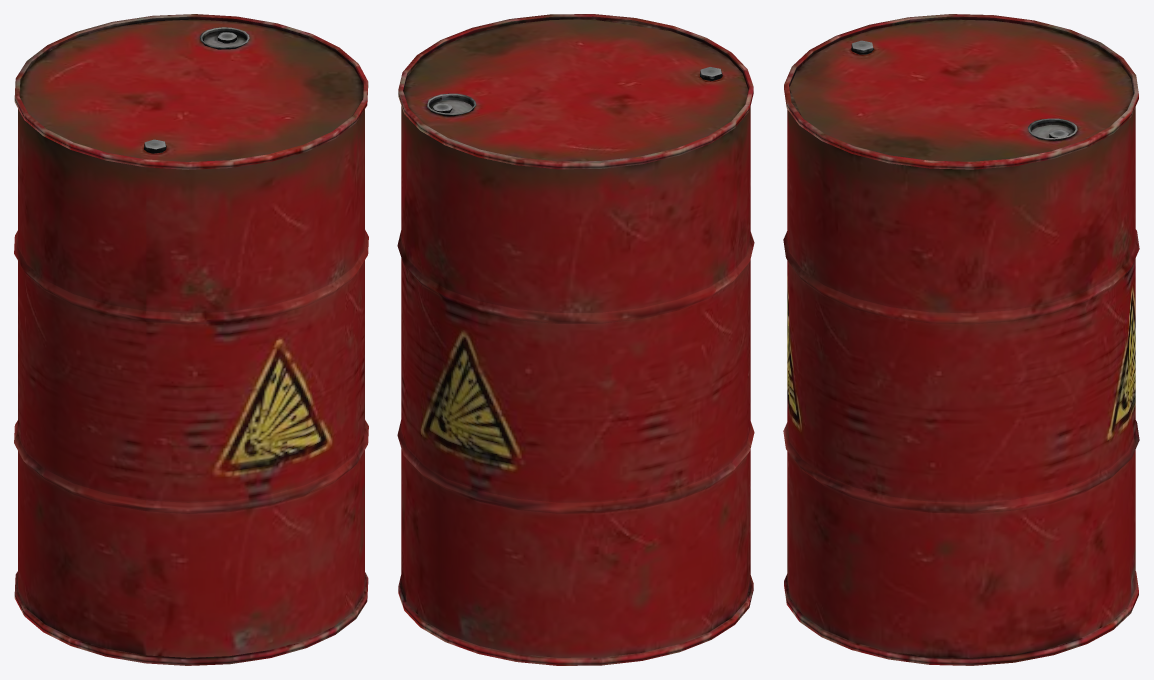
Rendered from barrel_oil_red.glb.
3 views of the same model, side by side, from view 1: azimuth 30°, elevation 25°; view 2: azimuth 150°, elevation 25°; view 3: azimuth 270°, elevation 25° (orthographic).
Visible parts, largest first — view 1: Barrel_01; view 2: Barrel_01; view 3: Barrel_01.
Part boxes in pixels (<box>): Barrel_01: <box>14,14,368,665</box>; Barrel_01: <box>397,14,754,665</box>; Barrel_01: <box>783,14,1139,665</box>.
Bounding box in the file's own units: 0.5627 × 0.8789 × 0.5627.
Materials: 1 (1 with a texture image).
